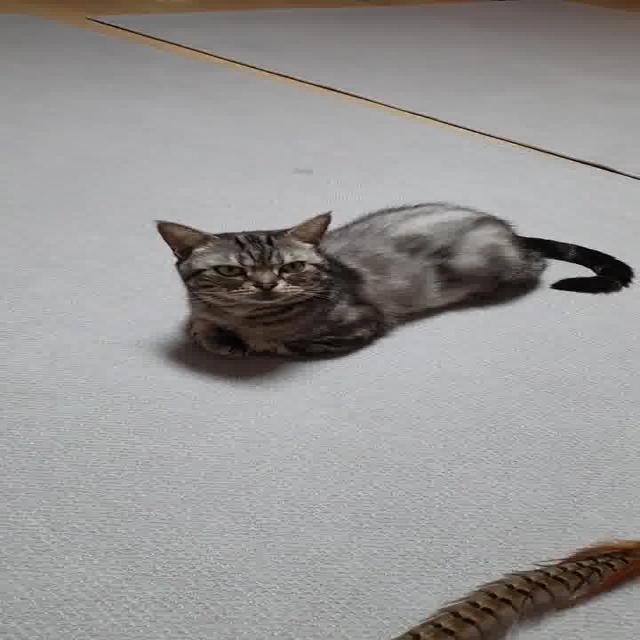cat: (114, 195, 640, 383)
